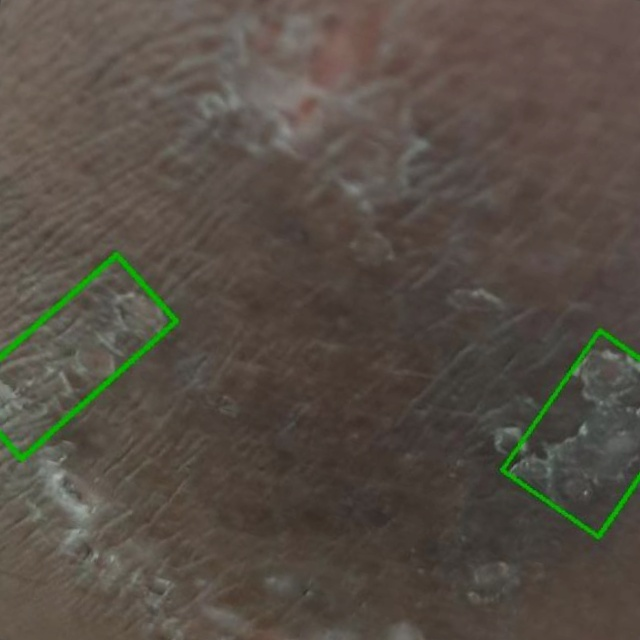Tinea Corporis: (0, 254, 175, 458), (500, 329, 639, 537)
